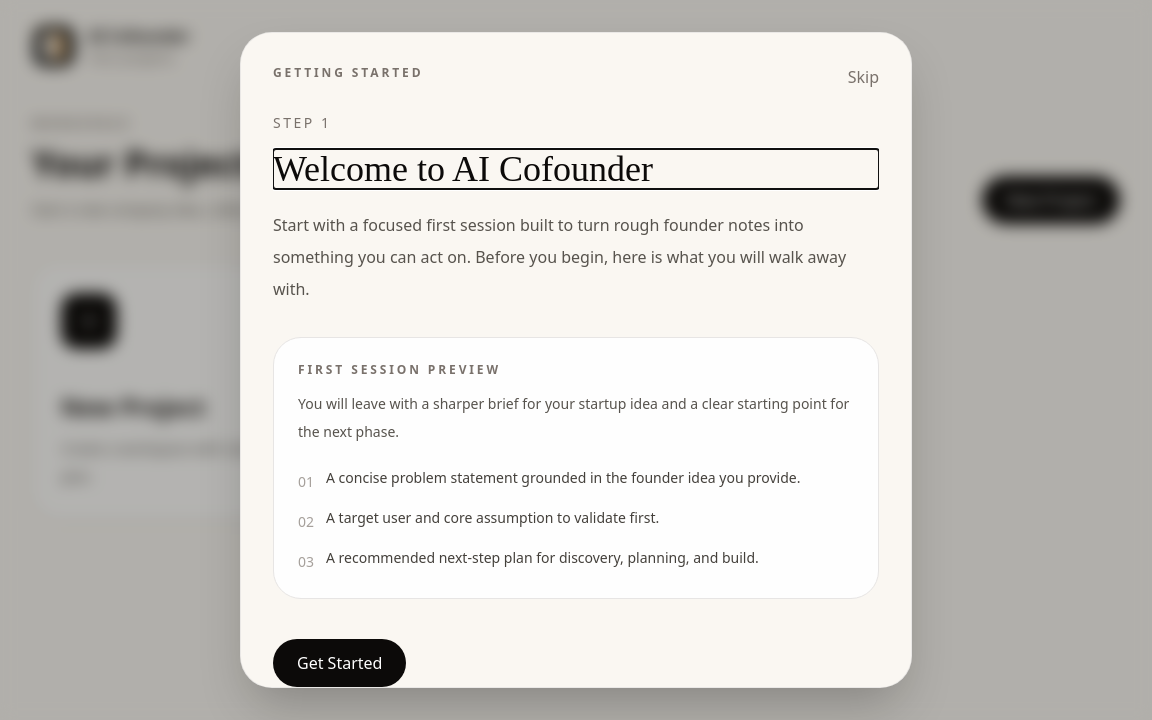
DashboardPage › skips onboarding by setting localStorage and closing the modal
Step 1. Click the button "Skip" → (863, 77), box [848,65,879,89]
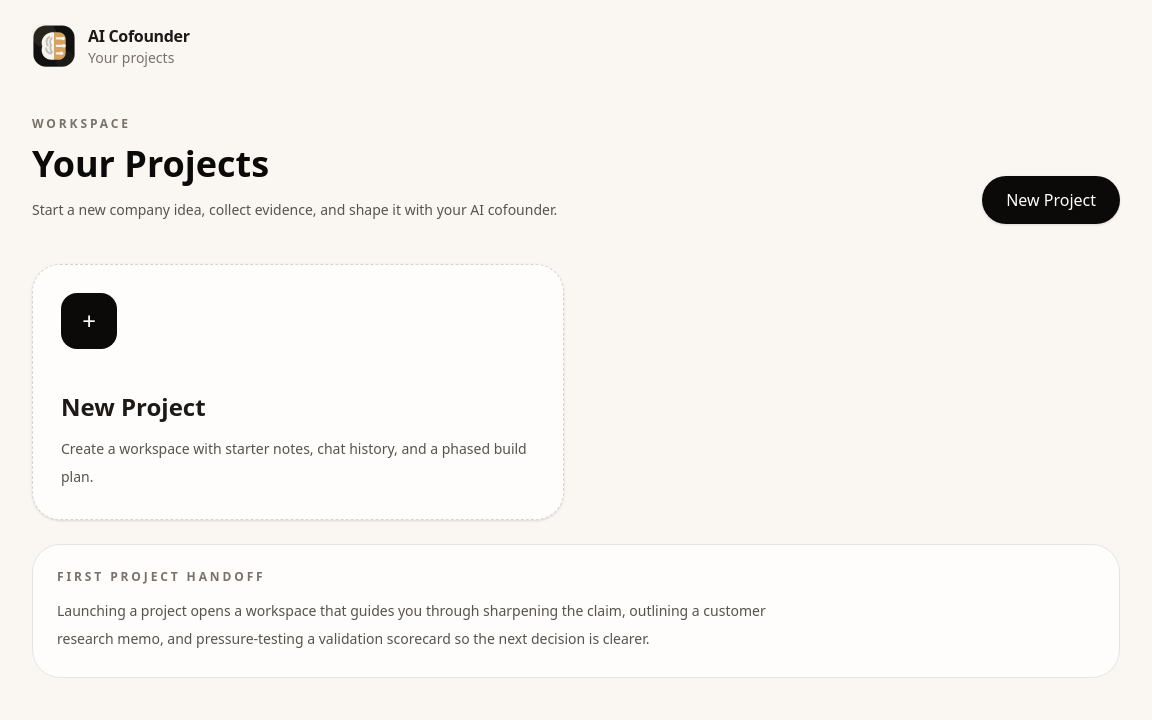
Expected: the dialog is gone
